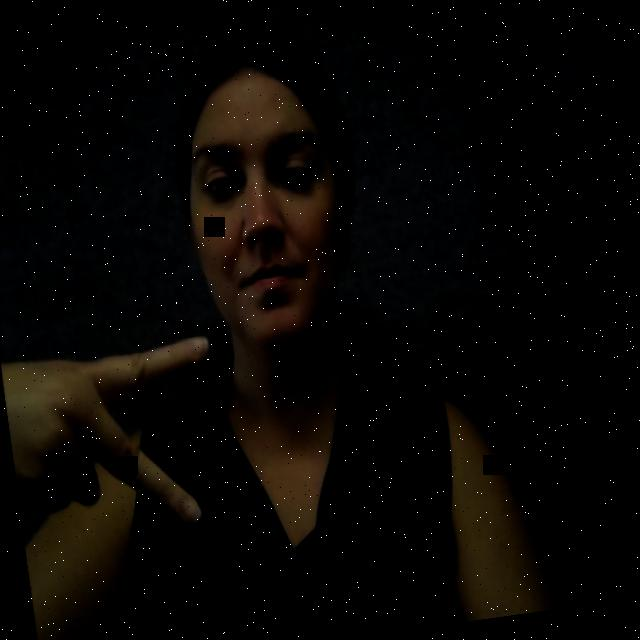Scissors: (0, 297, 241, 553)
